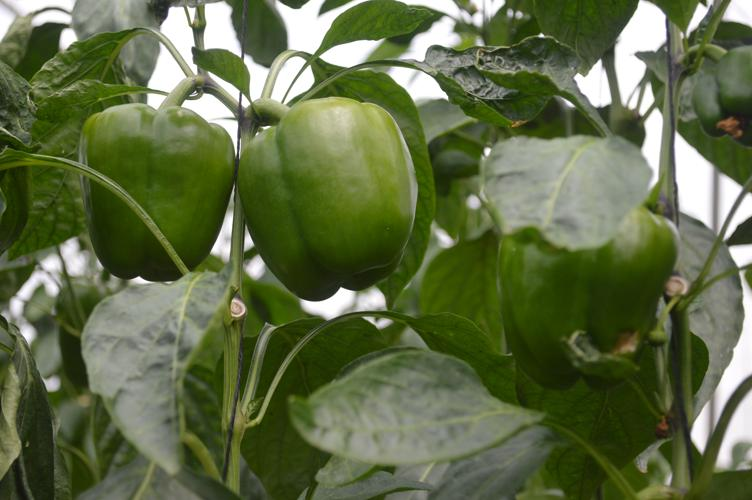BellPepper: (244, 96, 419, 295), (489, 213, 682, 382), (80, 104, 231, 274), (688, 48, 748, 143)
